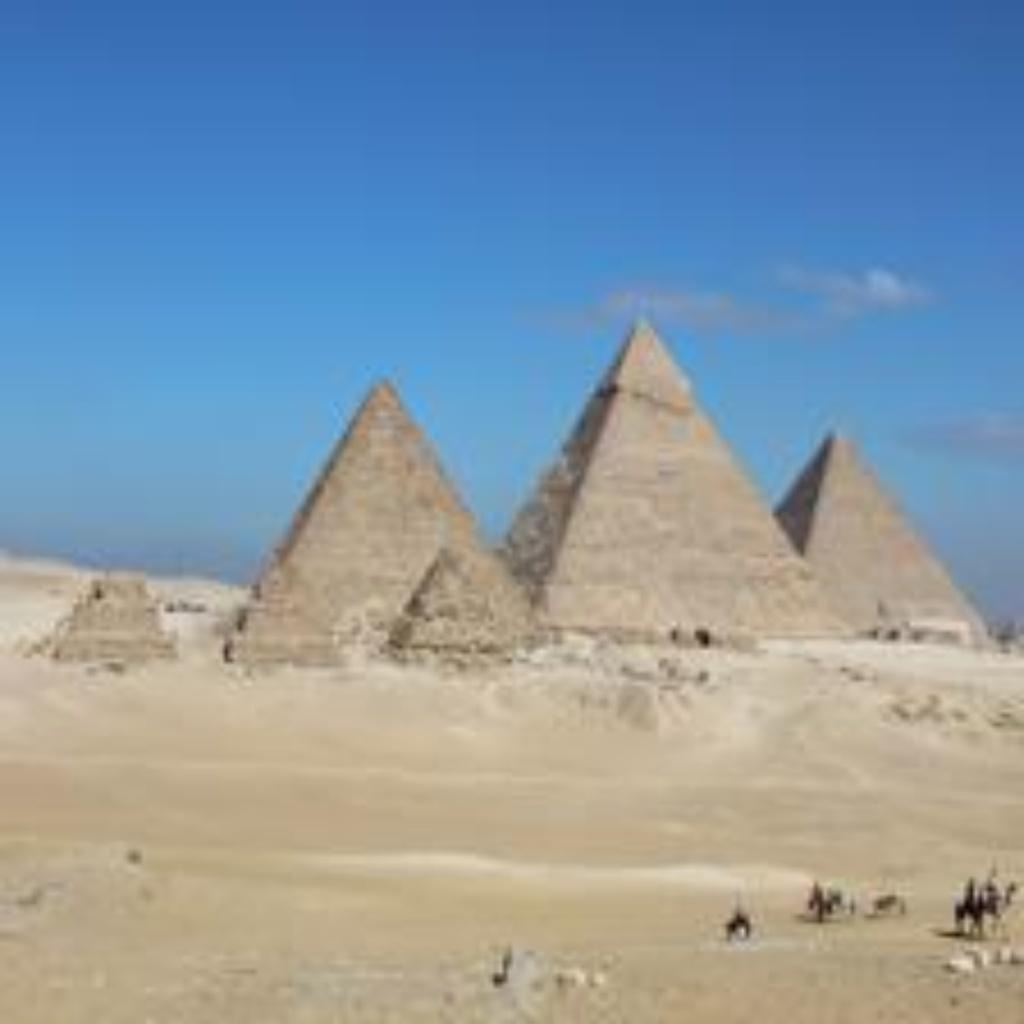Great Pyramids of Giza: (215, 295, 983, 685)
